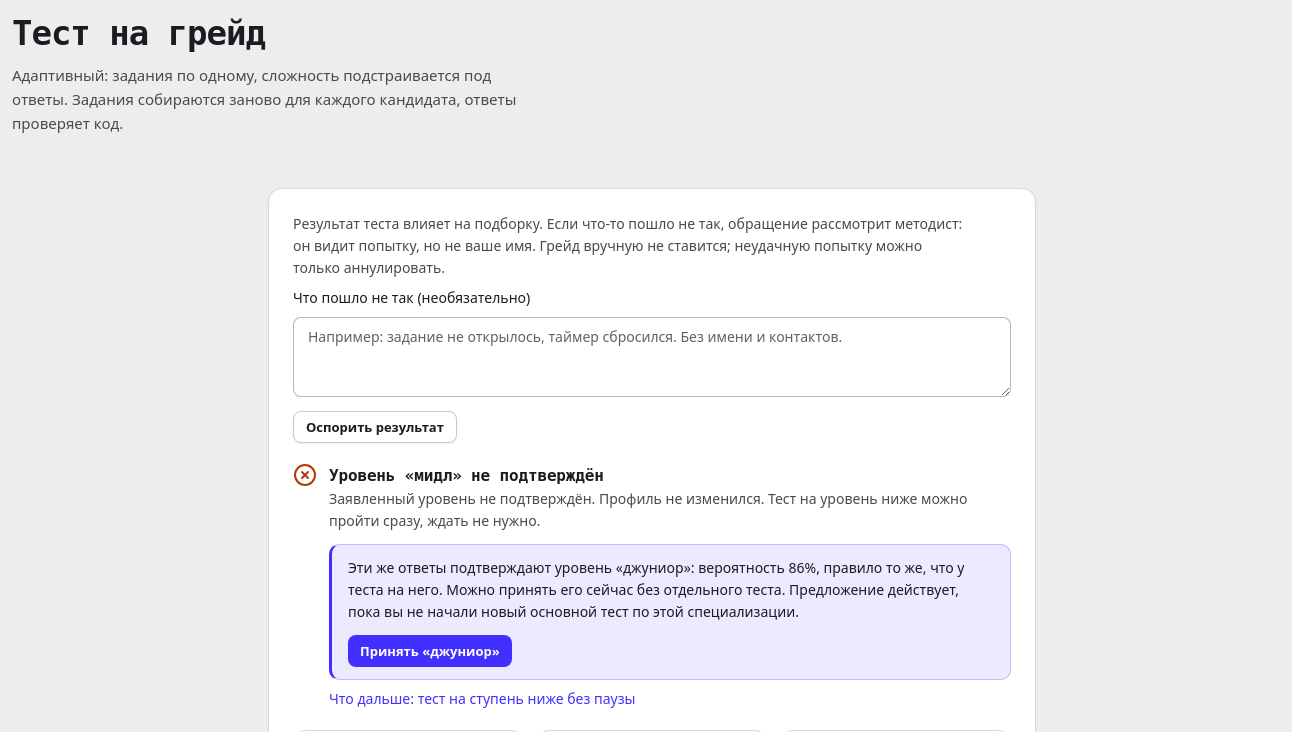
Scenario: тест на грейд › принимает ступень ниже из той же сессии
Expected: the element with test id "lower-offer" shows "вероятность 86%", left=329, top=544, right=1011, bottom=680
Click the button "Принять «джуниор»". click: (430, 651)
box: left=348, top=635, right=512, bottom=667
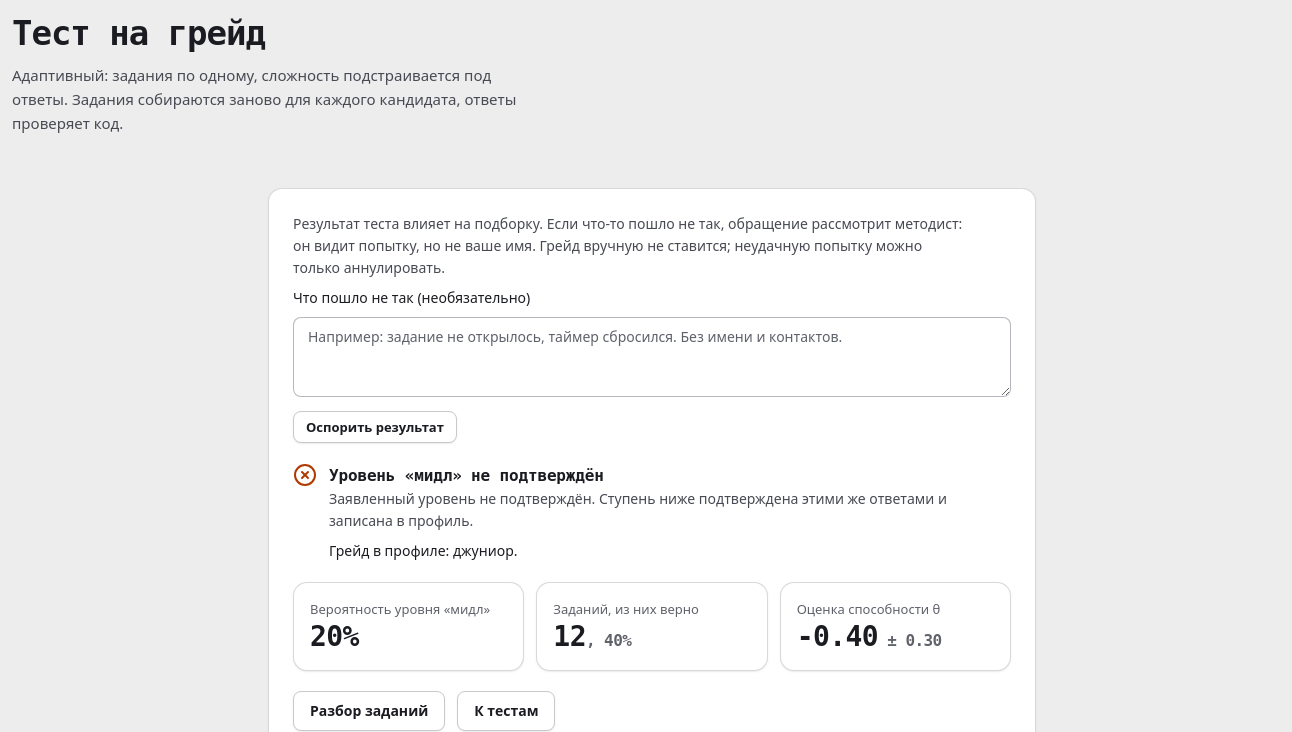
Expected: the text with test id "lower-accepted" shows "Грейд в профиле: джуниор", left=329, top=541, right=518, bottom=560
Expected: the element with test id "lower-offer" is gone
Expected: the button "тест на ступень ниже" is gone
